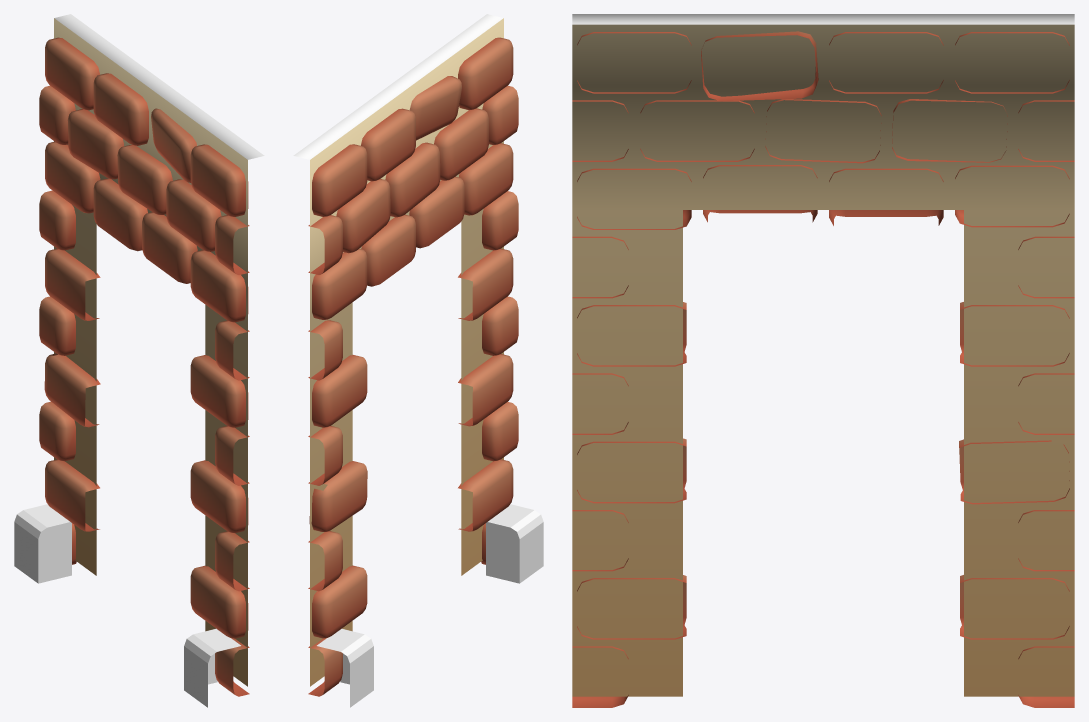
Rendered from BrickWallDoor_M.fbx.
3 renders of one model, left to right at view 1: azimuth 30°, elevation 25°; view 2: azimuth 150°, elevation 25°; view 3: azimuth 270°, elevation 25°, orthographic. The views are drawn at different scales.
Parts seen in each view (by area): view 1: BrickWallDoor; view 2: BrickWallDoor; view 3: BrickWallDoor.
Part boxes in pixels (<box>): BrickWallDoor: <box>14,14,264,707</box>; BrickWallDoor: <box>293,14,543,707</box>; BrickWallDoor: <box>572,14,1074,707</box>.
Size of the model in its own units: 3.07 by 0.3375 by 2.
